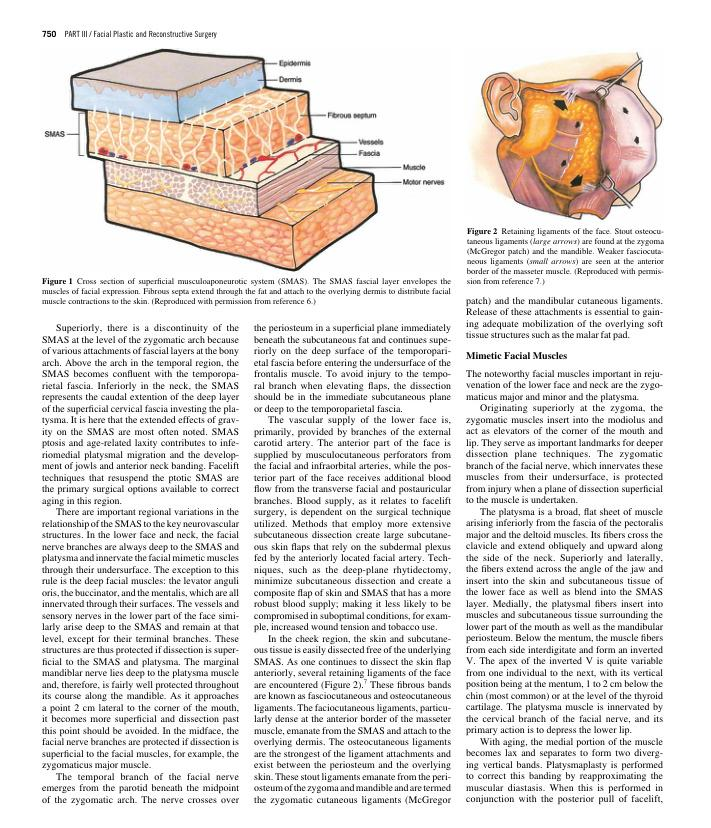caption: (40, 276, 453, 307), (465, 226, 666, 288)
header: (63, 29, 218, 40)
image: (40, 43, 449, 274), (462, 41, 666, 223)
sub-section-heading: (464, 349, 569, 361)
text: (41, 322, 241, 807), (252, 322, 452, 806), (464, 368, 665, 806), (465, 294, 664, 342)
